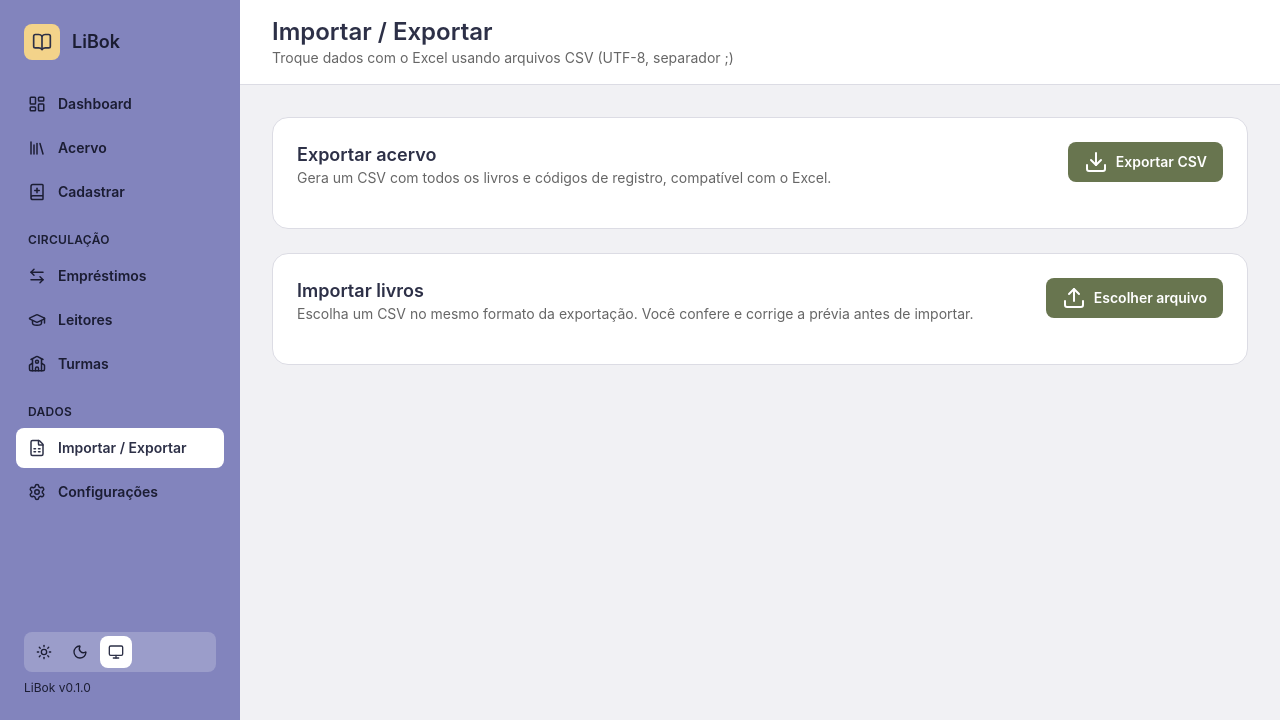
Scenario: fluxo: corrigir linhas na prévia › duplicidade entre linhas aparece e some ao corrigir o título
The image size is (1280, 720).
Click the button "Escolher arquivo" at point(1134, 298), box [1046,278,1223,318]
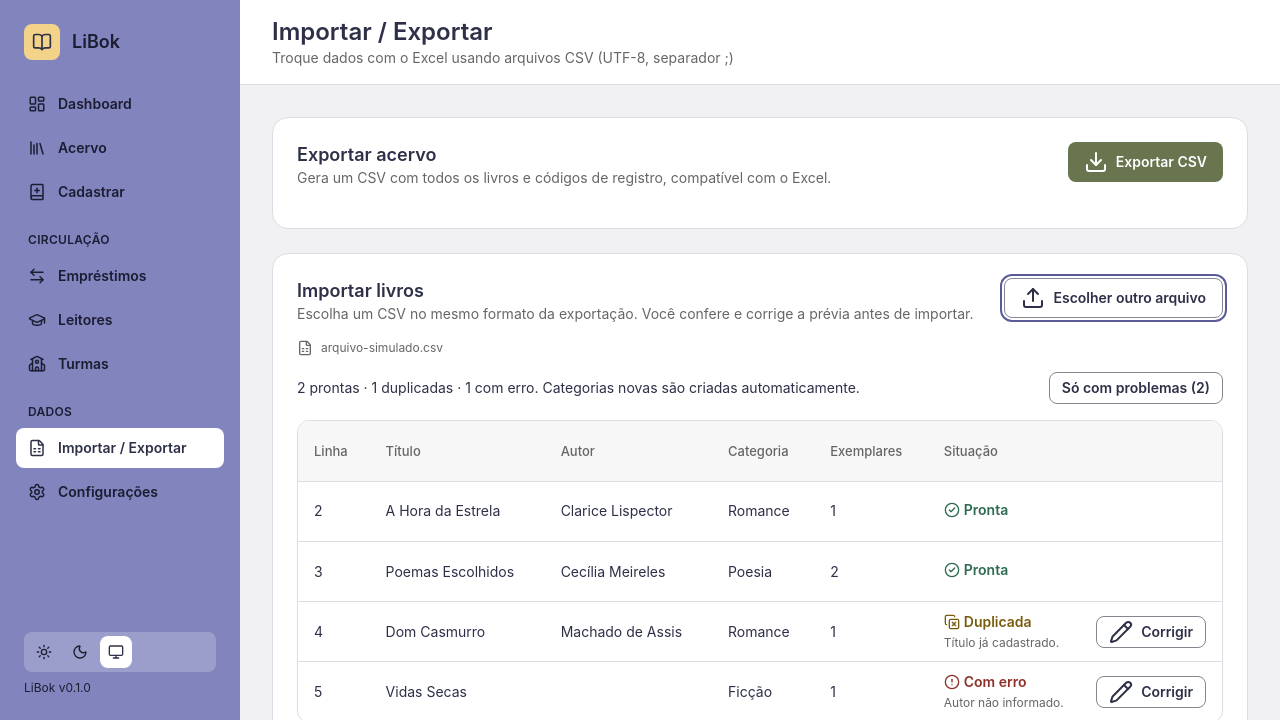
Expected: the text "Poemas Escolhidos" is shown, [370,542,545,602]
Click the button with aria-label "Corrigir linha 5" at point(1151, 692), box [1096,676,1206,708]
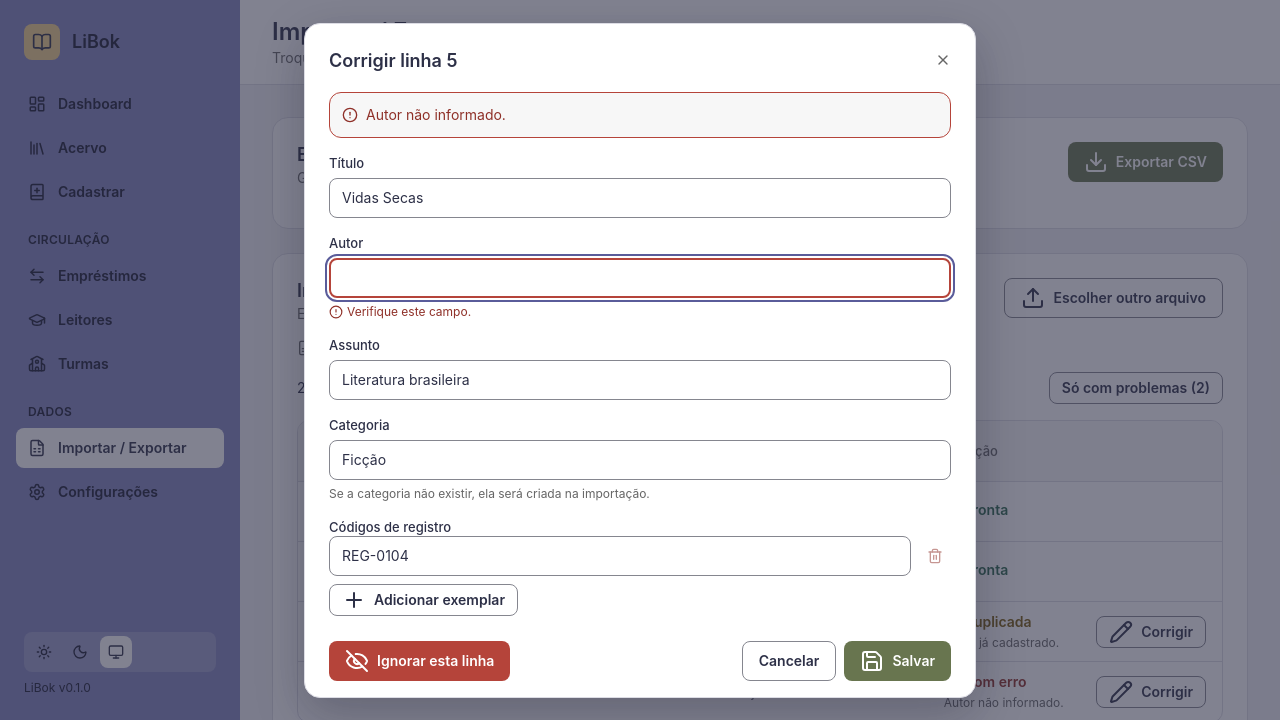
Type "X" into the field labelled "Autor" at point(640, 278), box [329,258,951,298]
Replace the text in the field labelled "Título" with "a hora da estrela" at point(640, 198), box [329,178,951,218]
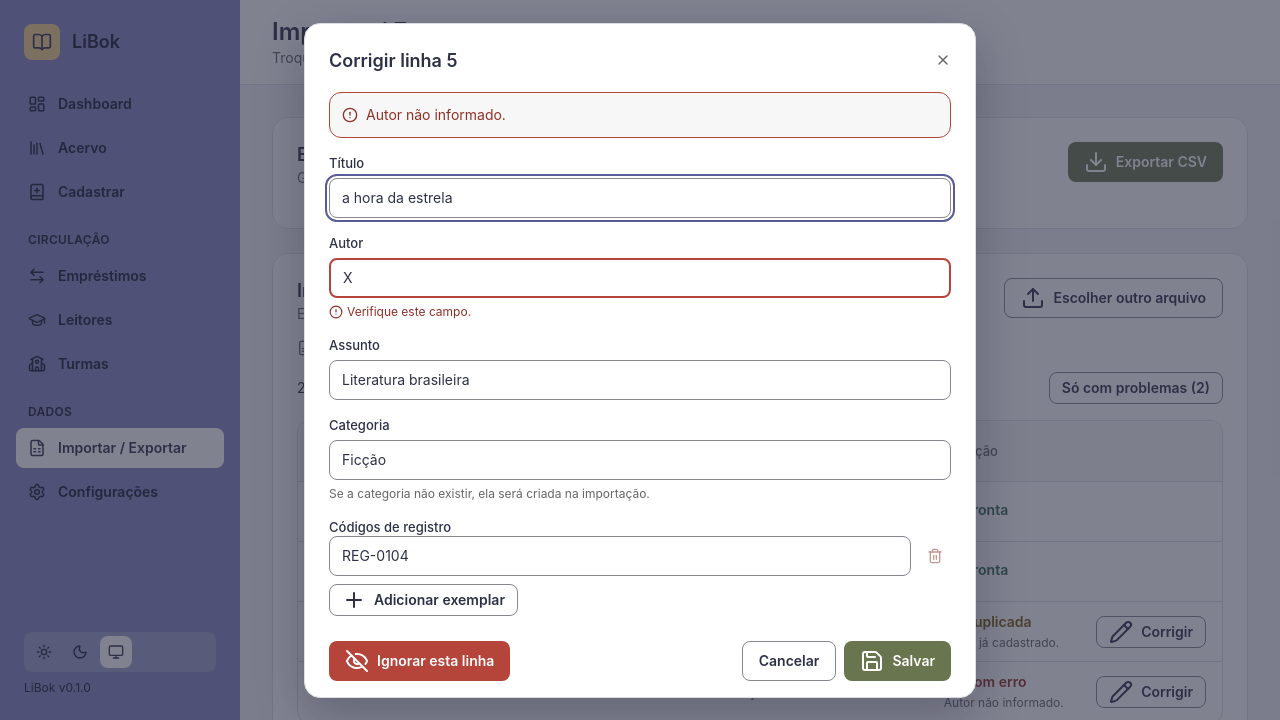
Click the button "Salvar" at point(898, 660), box [844,640,951,680]
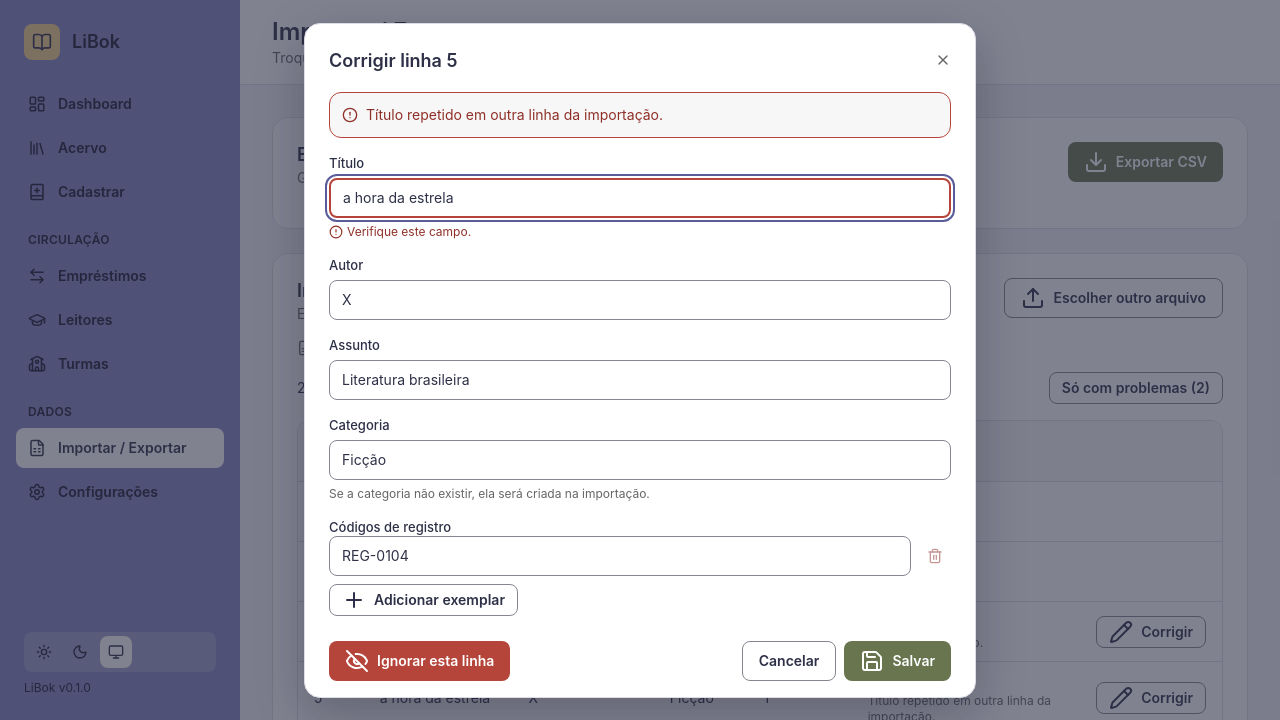
Expected: the message shows "Título repetido em outra linha", [366,106,663,122]
Replace the text in the field labelled "Título" with "Vidas Secas" at point(640, 198), box [329,178,951,218]
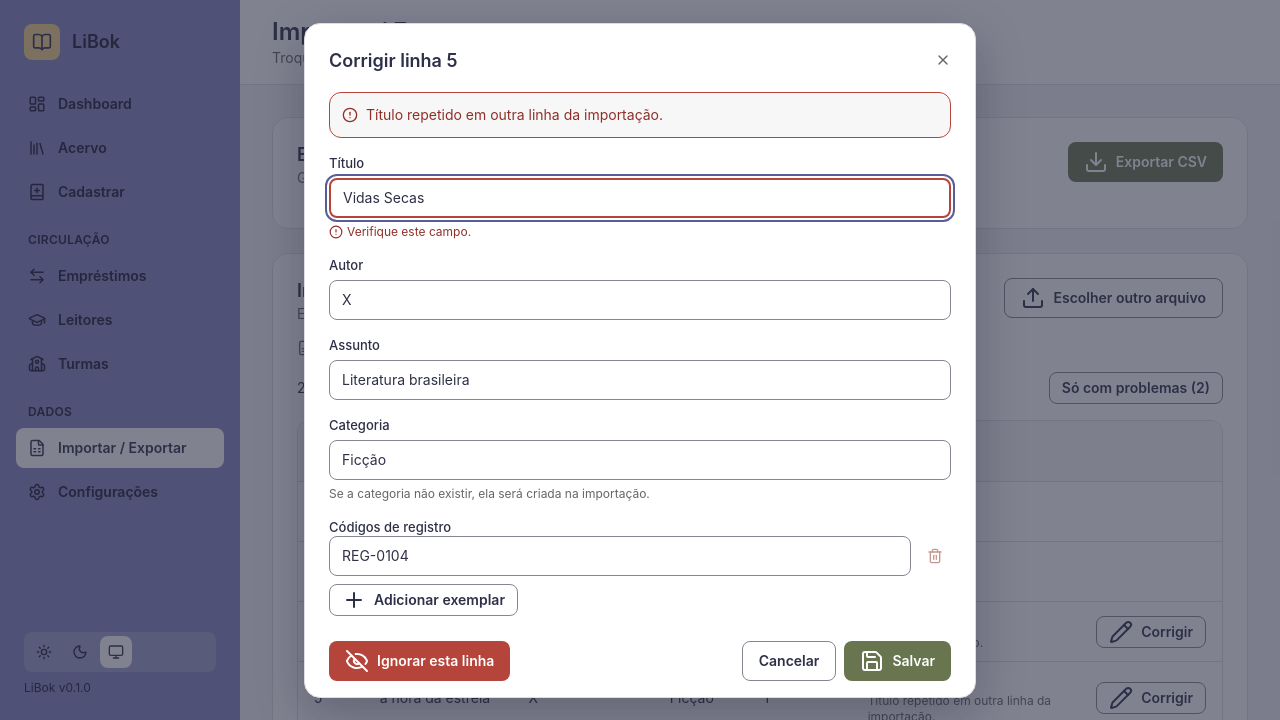
Click the button "Salvar" at point(898, 660), box [844,640,951,680]
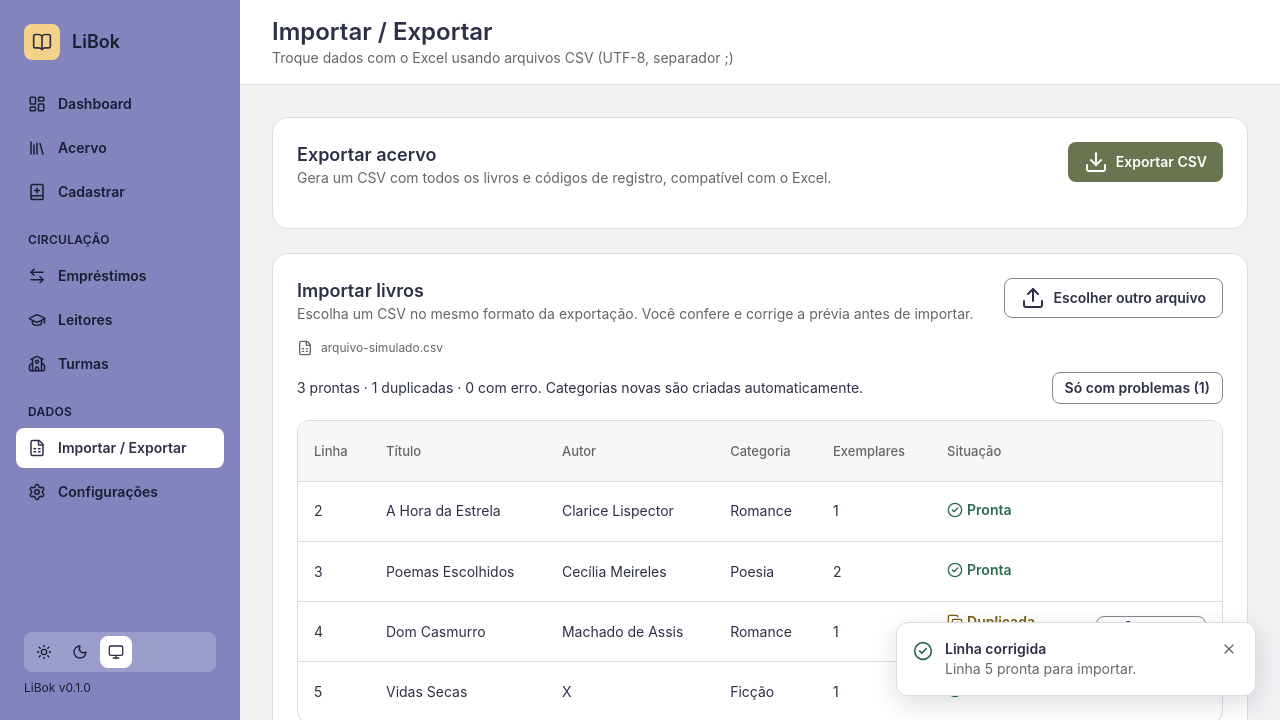
Expected: the dialog is gone
Expected: the message shows "3 prontas", [297,378,863,398]
